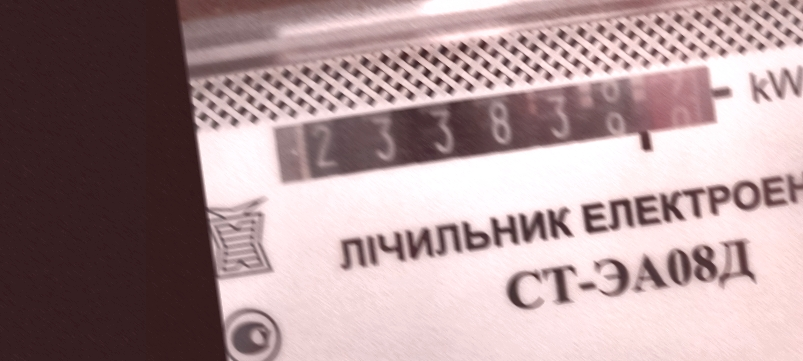0: (668, 102, 693, 131)
2: (309, 121, 339, 171)
3: (423, 105, 459, 157), (366, 111, 401, 164), (542, 91, 572, 140)
8: (483, 98, 516, 147), (597, 76, 623, 106)
9: (662, 66, 688, 98), (602, 108, 627, 140)
screen: (259, 52, 740, 207)
